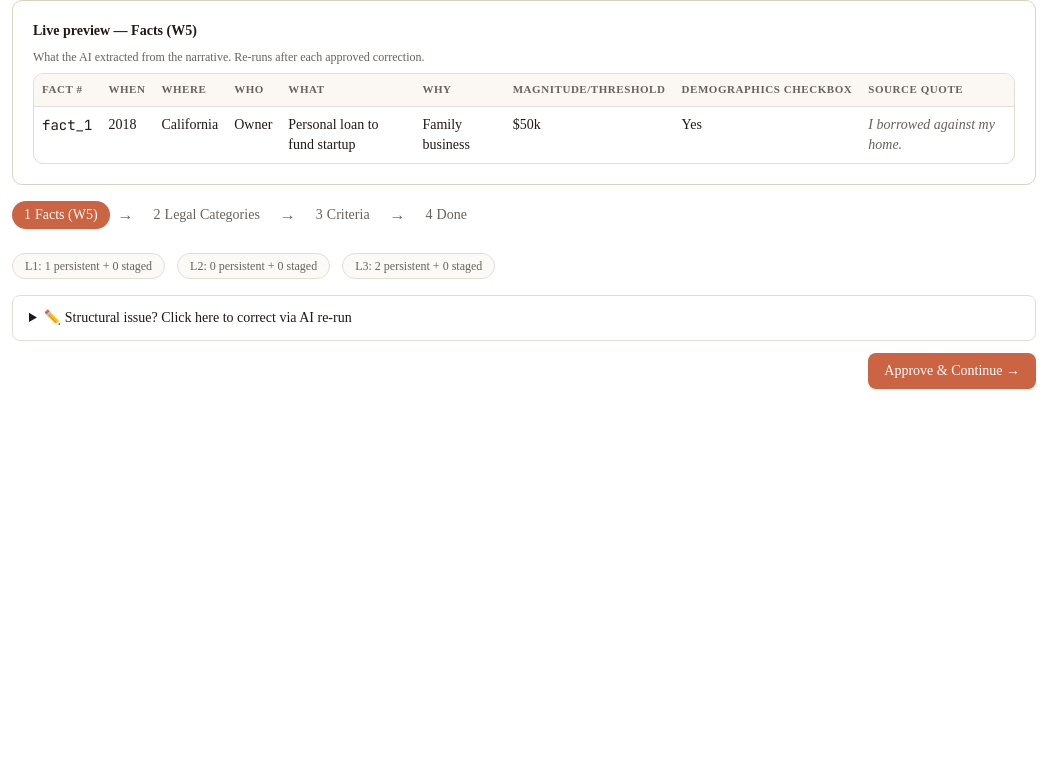
Test case: CucpStepper › renders the request_info banner when criteria contain request_info=Yes
This screenshot has width=1048, height=761.
Check: the text "L1: 1 persistent + 0 staged" is shown, box x1=12 y1=253 x2=165 y2=279
Click the button "Approve & Continue →": (952, 371) x1=868 y1=353 x2=1036 y2=389
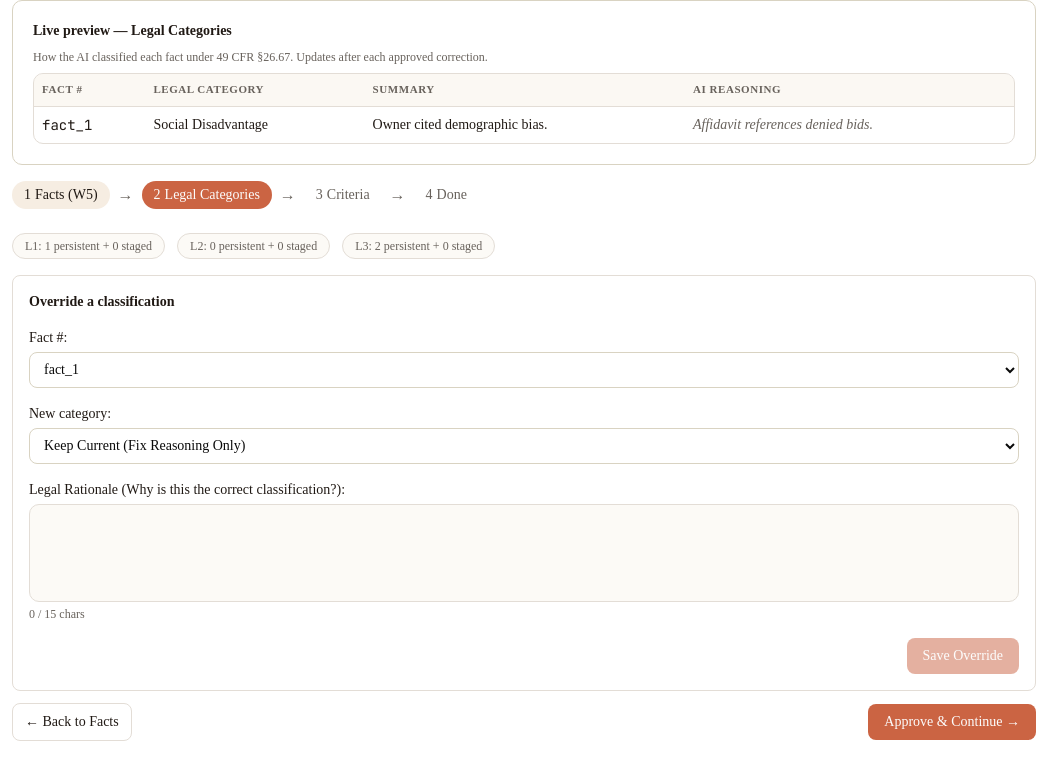
Check: the column heading "Legal Category" is shown, box x1=145 y1=74 x2=365 y2=106
Click the button "Approve & Continue →": (952, 722) x1=868 y1=704 x2=1036 y2=740
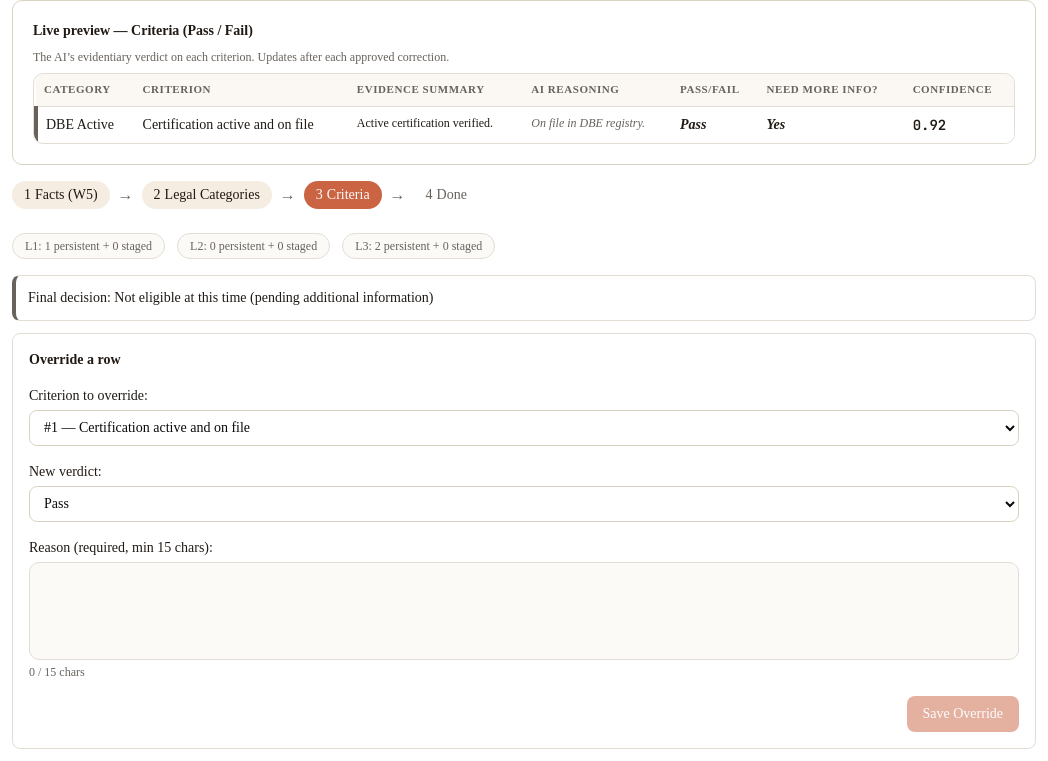
Check: the text "Final decision: Not eligible at this time (pending additional information)" is shown, box x1=12 y1=275 x2=1036 y2=321
